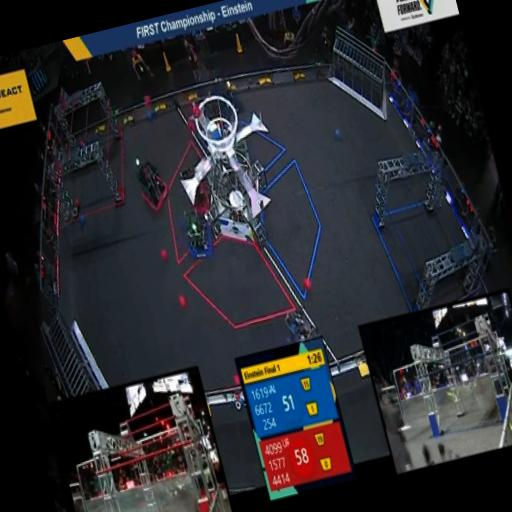robot: (176, 200, 223, 268), (131, 154, 175, 216), (278, 302, 320, 350), (176, 165, 212, 215), (206, 80, 244, 126)
